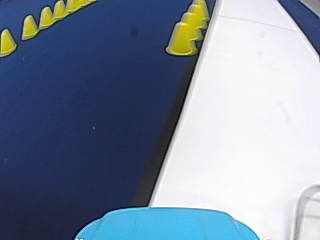cone: (164, 16, 198, 56), (186, 0, 209, 28), (20, 14, 38, 38), (179, 12, 201, 31), (0, 28, 16, 54), (38, 6, 53, 27), (52, 0, 65, 18)
